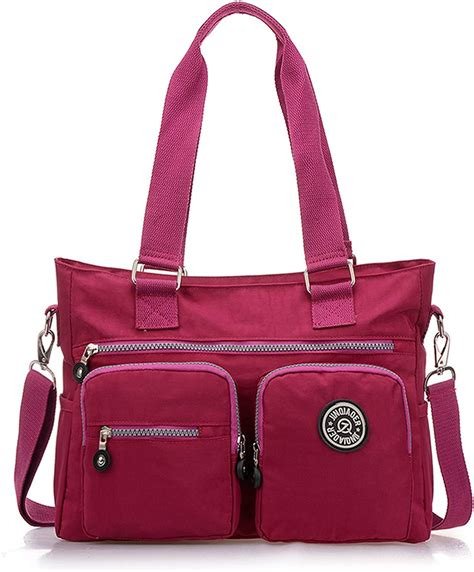nylon: (14, 1, 474, 545)
